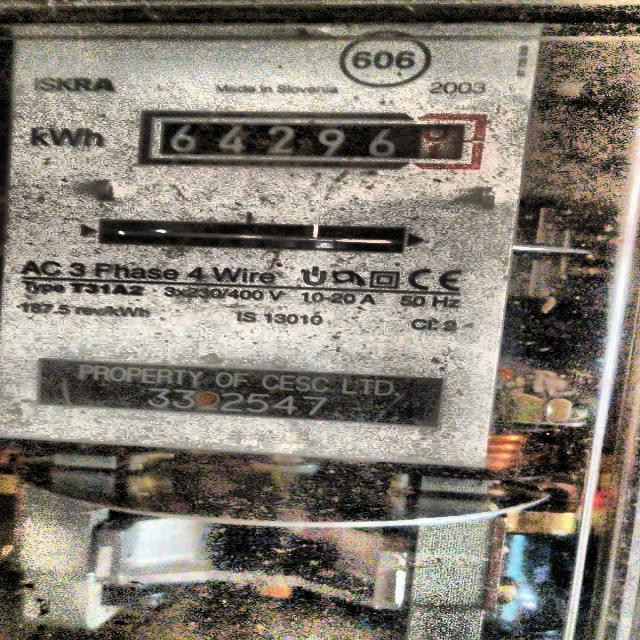Analog: (4, 0, 633, 529)
Reading: (162, 122, 461, 160)
Serial No.: (145, 388, 331, 416)
